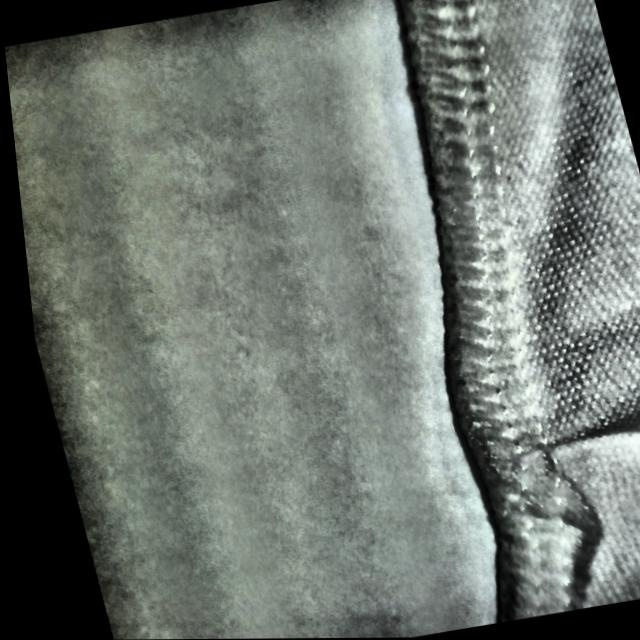seam: (453, 369, 640, 626)
